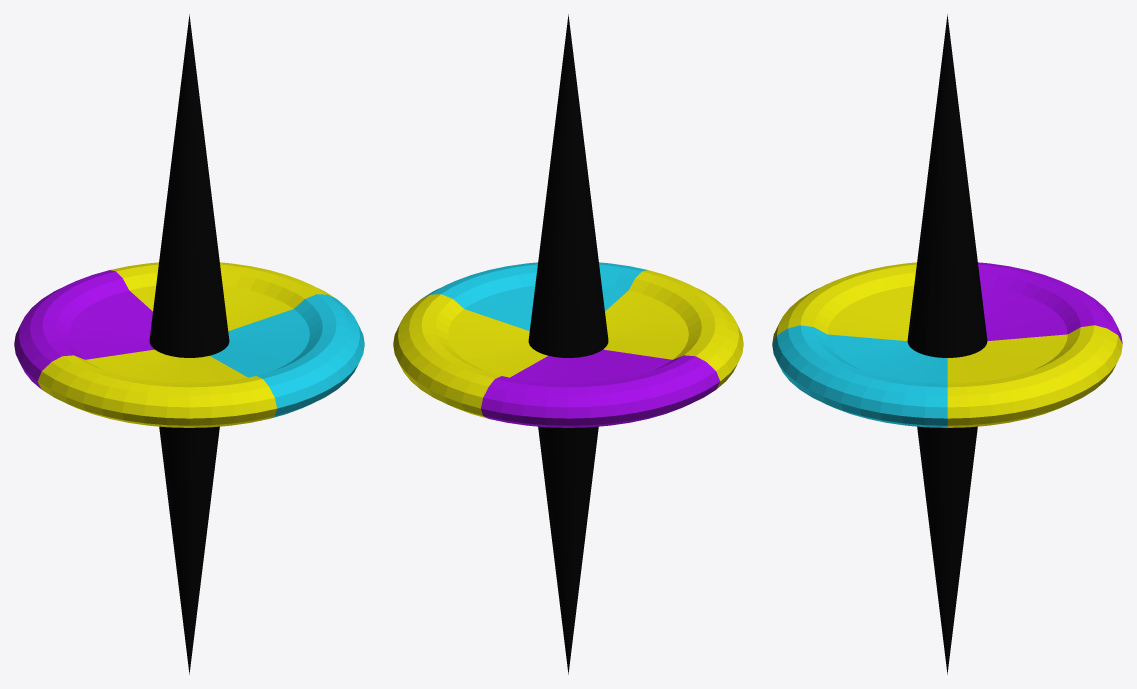
Rendered from spindizzy.fbx.
3 renders of one model, left to right at view 1: azimuth 30°, elevation 25°; view 2: azimuth 150°, elevation 25°; view 3: azimuth 270°, elevation 25°, orthographic.
Visible parts, largest first — view 1: Torus, Cone; view 2: Torus, Cone; view 3: Torus, Cone.
Part boxes in pixels (x1=…): Torus: x1=14, y1=262, x2=364, y2=427; Cone: x1=149, y1=14, x2=229, y2=674; Torus: x1=393, y1=262, x2=743, y2=427; Cone: x1=528, y1=14, x2=608, y2=674; Torus: x1=772, y1=262, x2=1122, y2=427; Cone: x1=907, y1=14, x2=987, y2=674.
Bounding box in the file's own units: 48.08 × 100 × 48.08.
